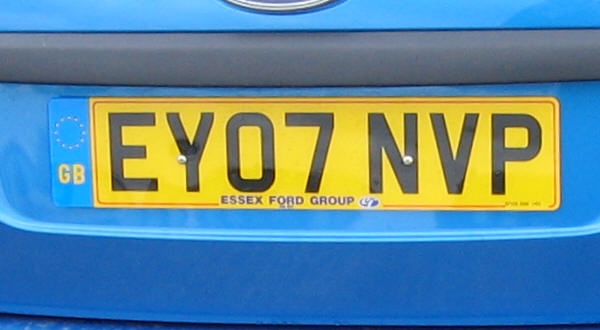license_plate: (46, 98, 561, 212)
